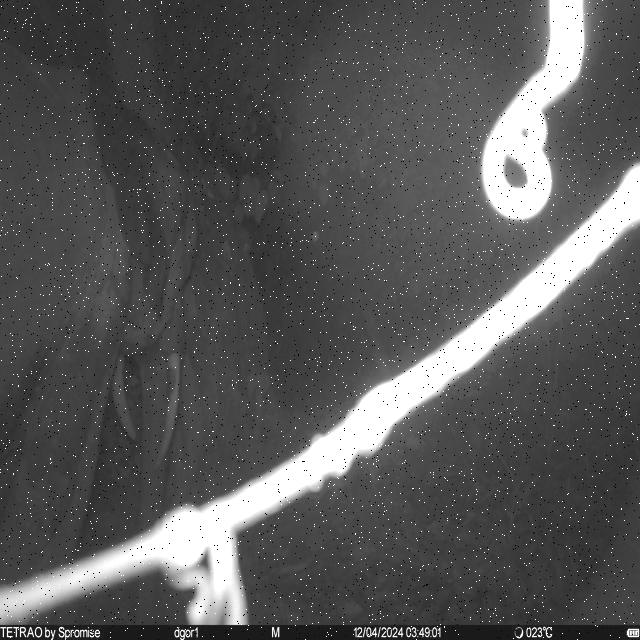ear: (89, 77, 170, 320)
elephant: (0, 35, 199, 624)
tusk: (155, 353, 183, 475), (111, 356, 139, 444)
